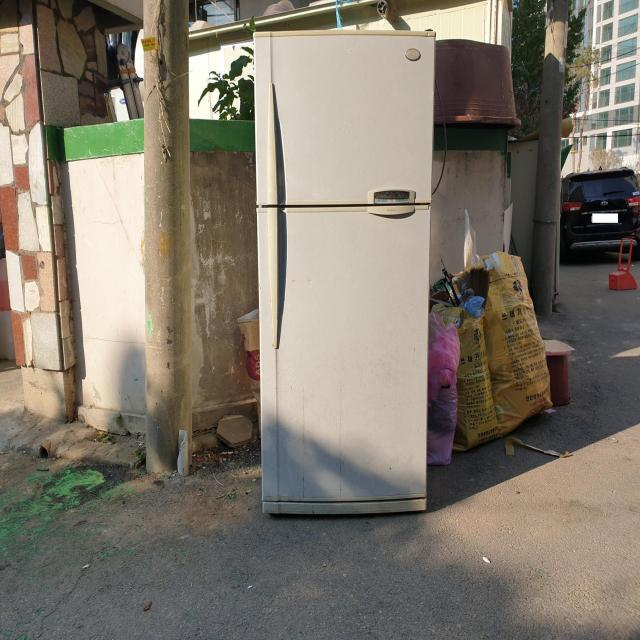refrigerator: (251, 28, 435, 518)
